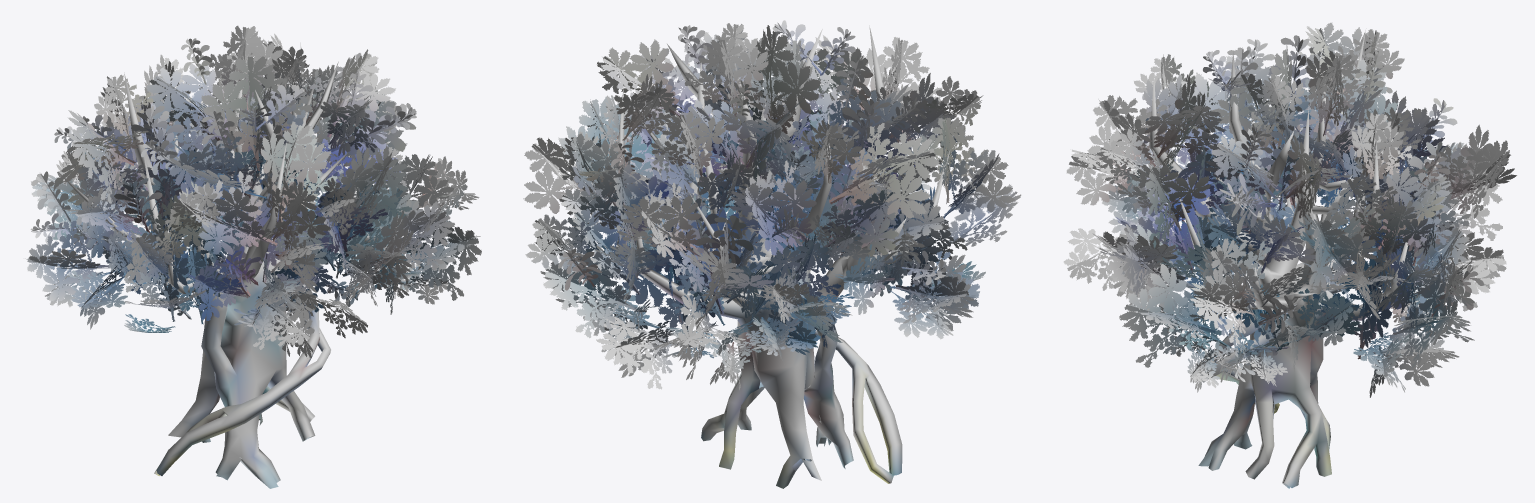
The model's file is cs_lobbynew02_shu01.FBX.
The picture shows the model from 3 angles, left to right: view 1: azimuth 30°, elevation 25°; view 2: azimuth 150°, elevation 25°; view 3: azimuth 270°, elevation 25°; orthographic projection. The views are drawn at different scales.
Parts seen in each view (by area): view 1: cs_lobbynew02_shu01; view 2: cs_lobbynew02_shu01; view 3: cs_lobbynew02_shu01.
Boxes of the visible parts, box(x1,y1,x2,y2) form: cs_lobbynew02_shu01: box(25, 25, 481, 488); cs_lobbynew02_shu01: box(523, 20, 1021, 488); cs_lobbynew02_shu01: box(1063, 22, 1516, 488).
Size of the model in its own units: 1824 by 1785 by 1695.
